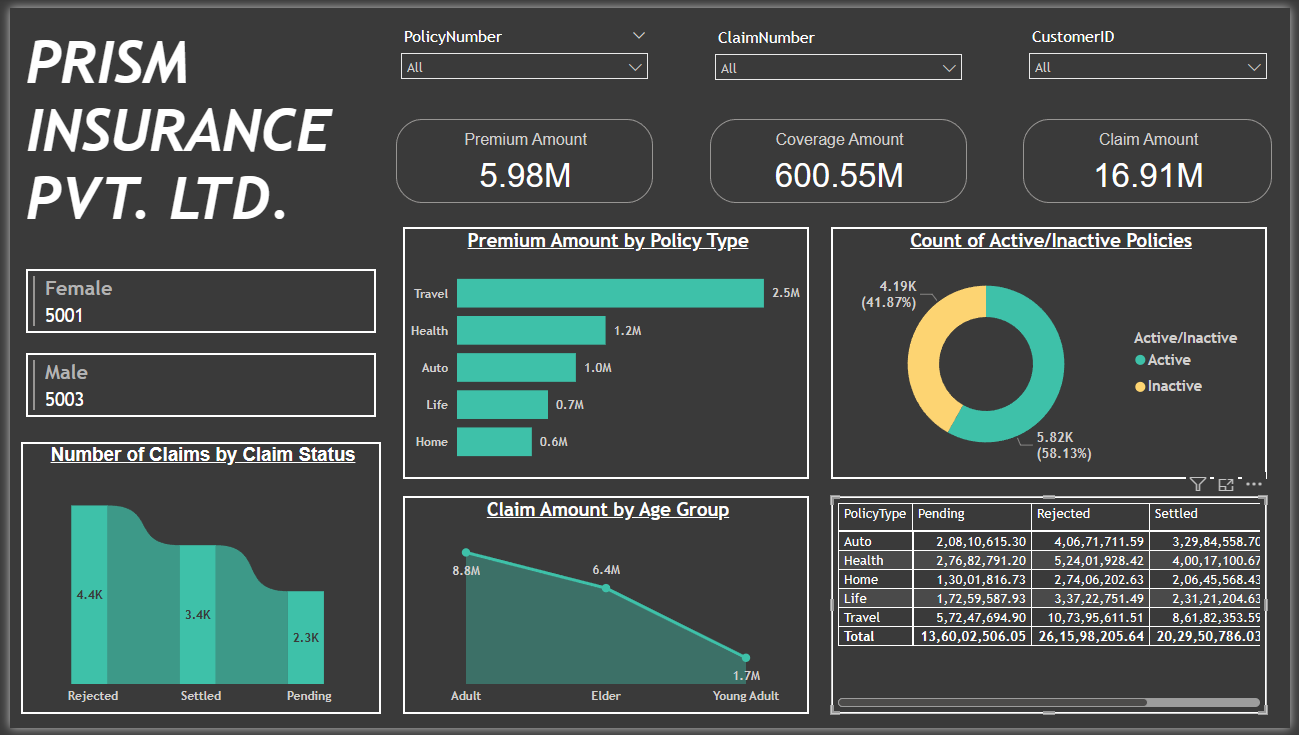

The page's visual inventory and layout, read from the dashboard file:
{"tool":"powerbi","page":{"name":"Page 1","canvas":[1280,720],"ordinal":0},"visuals":[{"type":"slicer","fields":{"Values":["InsuranceData.PolicyNumber"]},"box":[381.1,14.4,267,64.7],"z":0},{"type":"slicer","fields":{"Values":["InsuranceData.ClaimNumber"]},"box":[694.5,14.5,267.3,64.5],"z":1000},{"type":"slicer","fields":{"Values":["InsuranceData.CustomerID"]},"box":[1008.5,14.4,258.9,64.7],"z":2000},{"type":"textbox","box":[10.9,14.5,359.1,214.5],"z":3000},{"type":"cardVisual","fields":{"Data":["Sum(InsuranceData.PremiumAmount)"]},"box":[380.9,106.4,267.3,93.6],"z":4000},{"type":"cardVisual","fields":{"Data":["Sum(InsuranceData.CoverageAmount)"]},"box":[694.5,106.4,267.3,93.6],"z":5000},{"type":"cardVisual","fields":{"Data":["Sum(InsuranceData.ClaimAmount)"]},"box":[1008.2,106.4,259.1,93.6],"z":6000},{"type":"multiRowCard","fields":{"Values":["InsuranceData.Gender","CountNonNull(InsuranceData.Gender)"]},"box":[10.9,256.4,360,177.3],"z":7000},{"type":"ribbonChart","title":"Number of Claims by Claim Status","fields":{"Category":["InsuranceData.ClaimStatus"],"Y":["CountNonNull(InsuranceData.ClaimStatus)"]},"box":[10.9,433.6,360,272.7],"z":8000},{"type":"barChart","title":"Premium Amount by Policy Type","fields":{"Category":["InsuranceData.PolicyType"],"Y":["Sum(InsuranceData.PremiumAmount)"]},"box":[392.7,219.1,406.4,251.8],"z":9000},{"type":"lineChart","title":"Claim Amount by Age Group","fields":{"Category":["InsuranceData.Age Group"],"Y":["Sum(InsuranceData.ClaimAmount)"]},"box":[392.7,488.2,406.4,218.2],"z":10000},{"type":"donutChart","title":"Count of Active/Inactive Policies","fields":{"Category":["InsuranceData.Active/Inactive"],"Y":["CountNonNull(InsuranceData.Active/Inactive)"]},"box":[820.9,219.1,436.4,251.8],"z":11000},{"type":"pivotTable","fields":{"Rows":["InsuranceData.PolicyType"],"Columns":["InsuranceData.ClaimStatus"],"Values":["Sum(InsuranceData.CoverageAmount)"]},"box":[821,488,436,218],"z":12000}]}

Visuals, with their boxes in screenshot pixels (x1, y1, x2, y2), scaled from the page's 1280x720 canvas onto the 1299x735 screenshot:
slicer - InsuranceData.PolicyNumber: select_region(387, 15, 658, 81)
slicer - InsuranceData.ClaimNumber: select_region(705, 15, 976, 81)
slicer - InsuranceData.CustomerID: select_region(1023, 15, 1286, 81)
textbox: select_region(11, 15, 375, 234)
cardVisual - Sum(InsuranceData.PremiumAmount): select_region(387, 109, 658, 204)
cardVisual - Sum(InsuranceData.CoverageAmount): select_region(705, 109, 976, 204)
cardVisual - Sum(InsuranceData.ClaimAmount): select_region(1023, 109, 1286, 204)
multiRowCard - InsuranceData.Gender x CountNonNull(InsuranceData.Gender): select_region(11, 262, 376, 443)
"Number of Claims by Claim Status" ribbonChart: select_region(11, 443, 376, 721)
"Premium Amount by Policy Type" barChart: select_region(399, 224, 811, 481)
"Claim Amount by Age Group" lineChart: select_region(399, 498, 811, 721)
"Count of Active/Inactive Policies" donutChart: select_region(833, 224, 1276, 481)
pivotTable - InsuranceData.PolicyType x InsuranceData.ClaimStatus: select_region(833, 498, 1276, 721)
